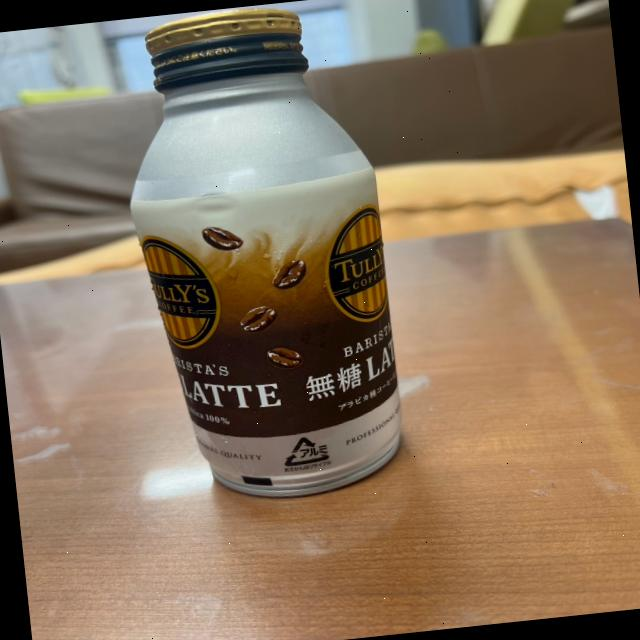coffee-latte: (106, 1, 414, 514)
